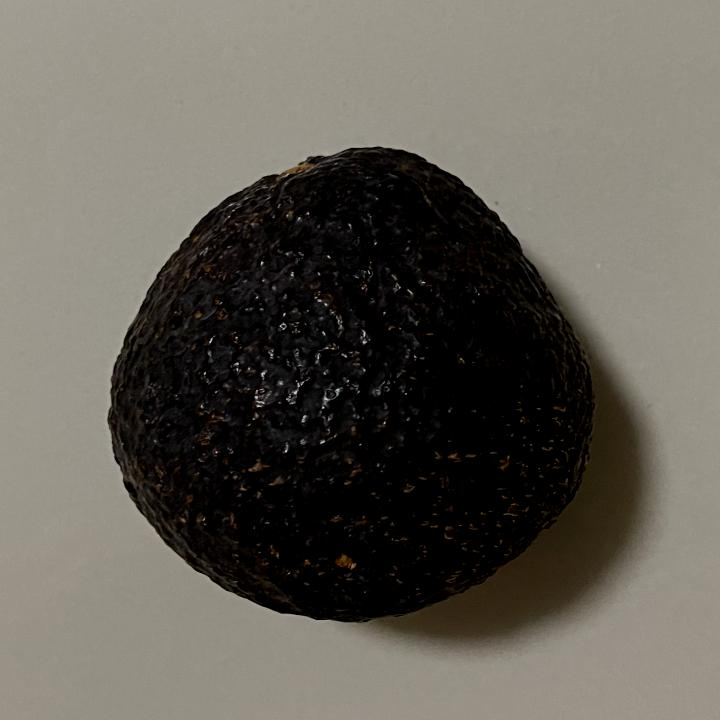Level3: (94, 129, 606, 631)
